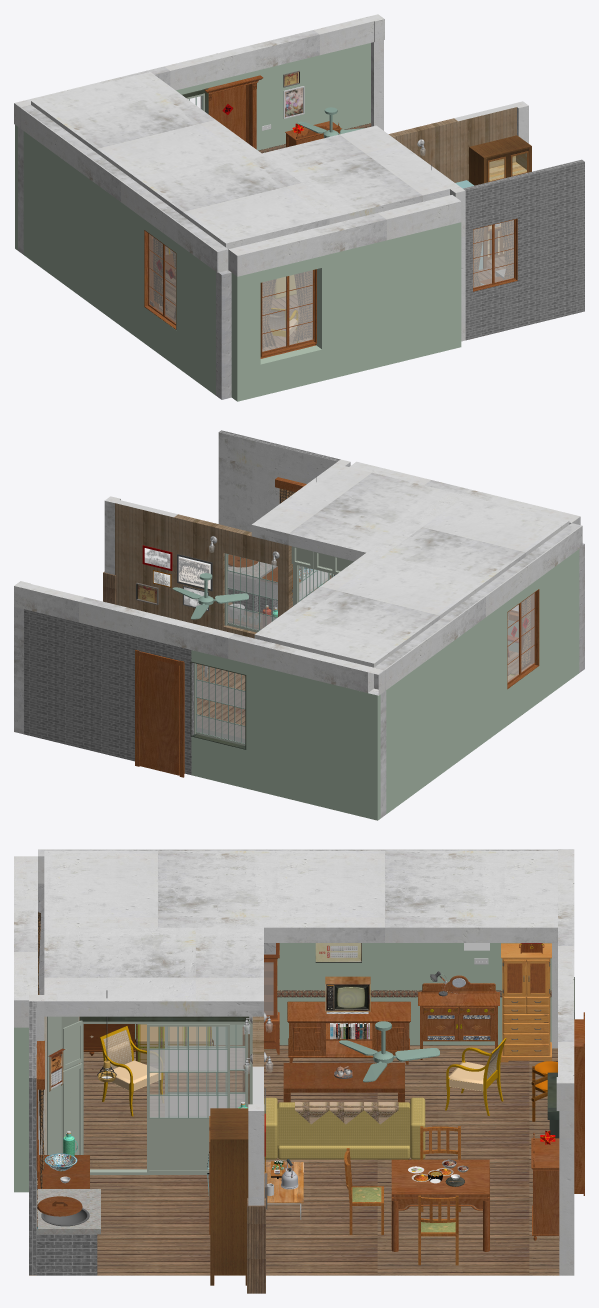
Rendered from room-su.draco.glb.
3 renders of one model, top to bottom at view 1: azimuth 30°, elevation 25°; view 2: azimuth 150°, elevation 25°; view 3: azimuth 270°, elevation 25°, orthographic. The views are drawn at different scales.
Parts seen in each view (by area): view 1: Geom3D (×11), Geom3D_ (×2), Geom3D_cb white bowl; view 2: Geom3D (×12), Geom3D_ (×2), object 191; view 3: Geom3D (×31), Geom3D_ (×5), Geom3D_cb white bowl.
Part boxes in pixels (box(x1,y1,x2,y2)): Geom3D (×11): box(14, 14, 584, 401); Geom3D_ (×2): box(153, 96, 513, 347); Geom3D_cb white bowl: box(262, 86, 516, 226); Geom3D (×12): box(14, 430, 584, 820); Geom3D_ (×2): box(172, 488, 530, 743); object 191: box(178, 556, 210, 589); Geom3D (×31): box(14, 849, 584, 1293); Geom3D_ (×5): box(36, 911, 439, 1234); Geom3D_cb white bowl: box(60, 958, 488, 1195).
Size of the model in its own units: 7.89 by 3 by 7.54.
204 materials, 129 textured.
